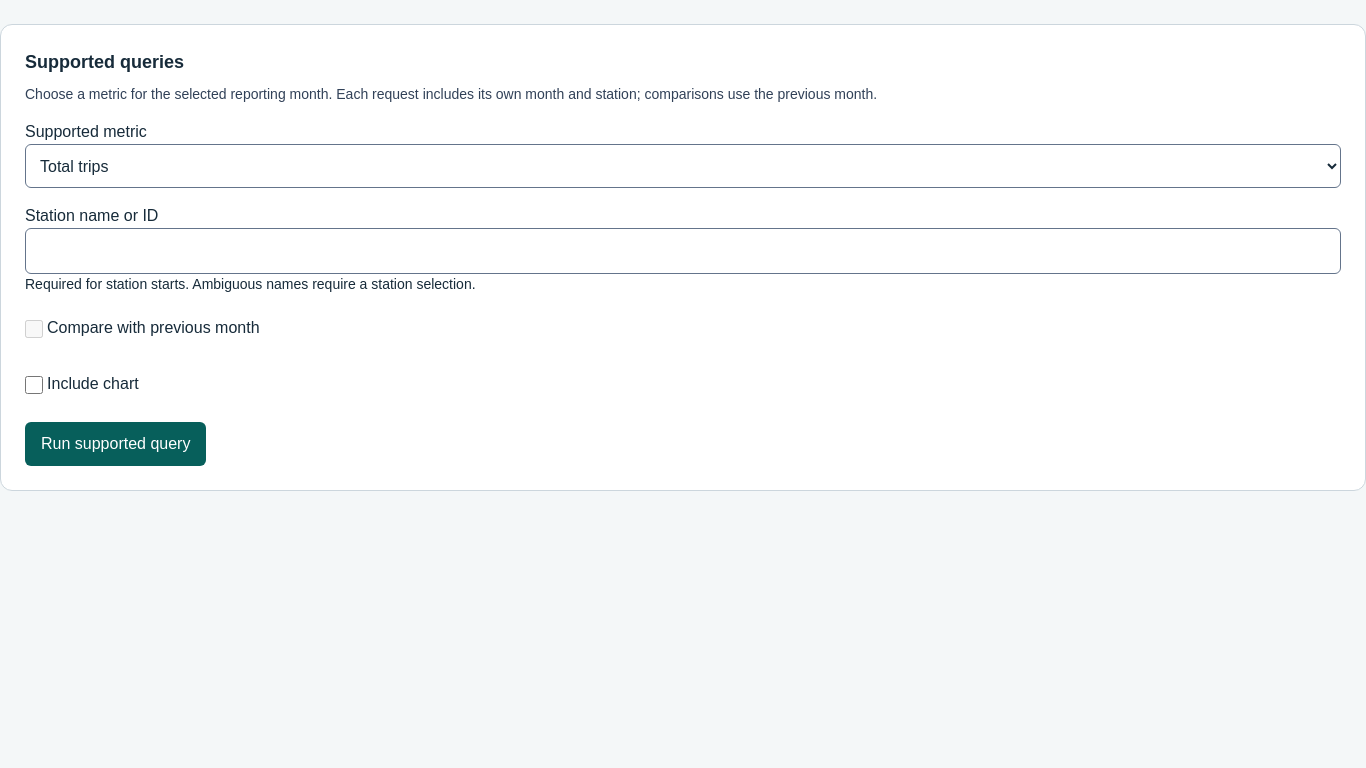
Scenario: does not show prior request choices after context changes
Click the button "Run supported query".
click(116, 444)  # box [25, 422, 206, 466]
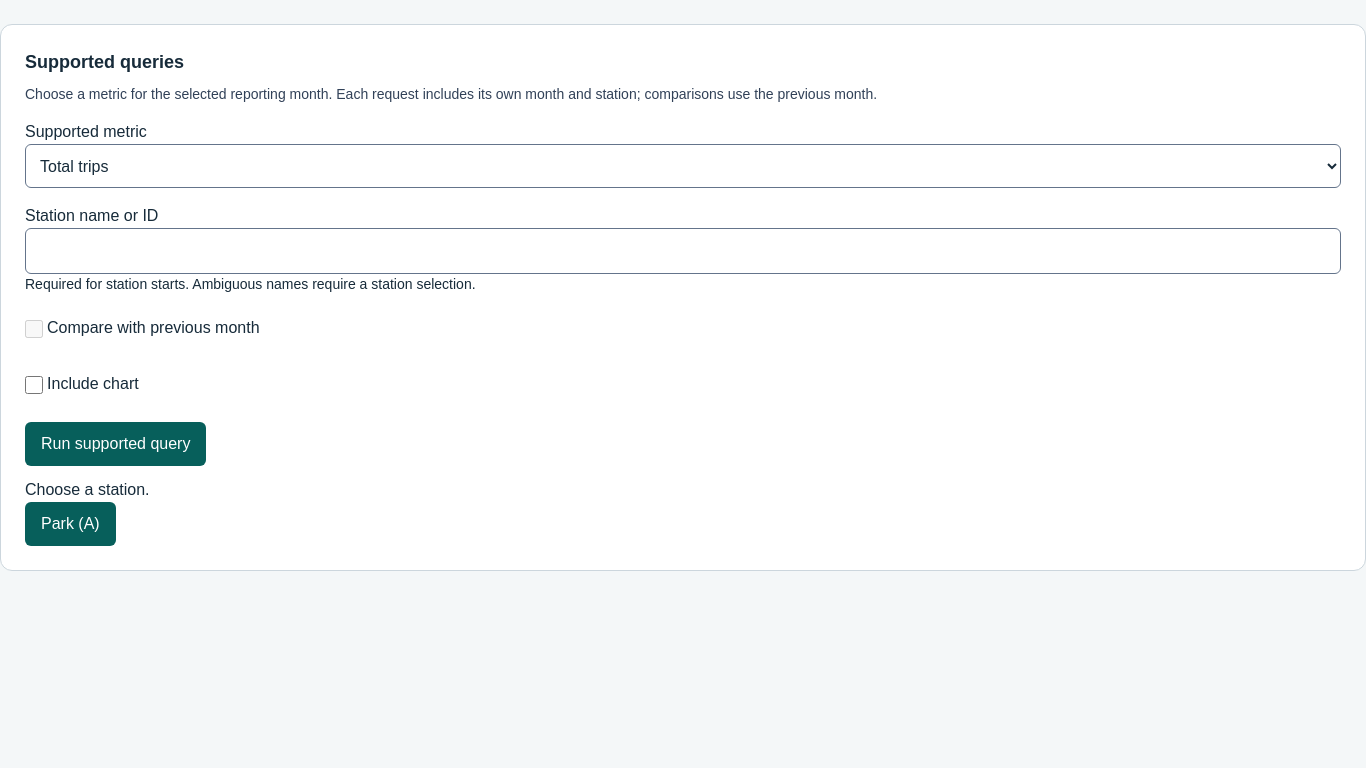
Result: the button "Park (A)" is shown at [25, 502, 116, 546]
